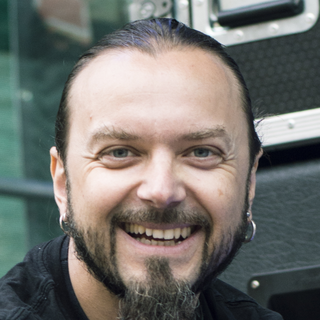eye: (94, 141, 144, 166), (178, 141, 226, 166)
